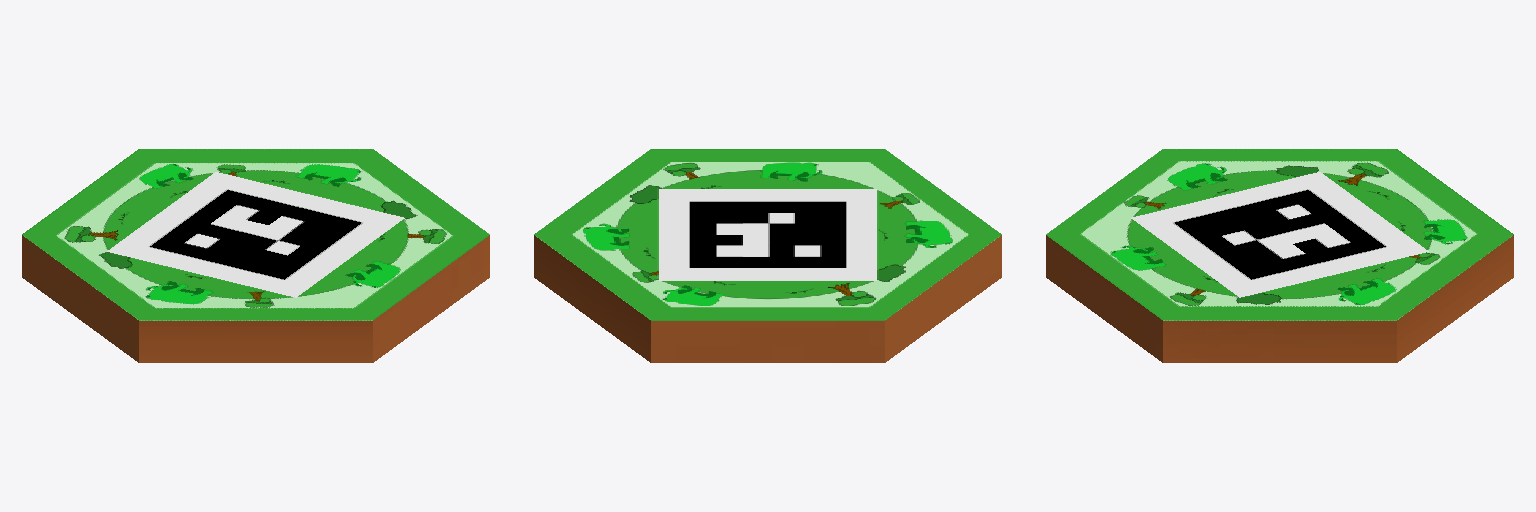
3 views of the same model, side by side, from view 1: azimuth 30°, elevation 25°; view 2: azimuth 150°, elevation 25°; view 3: azimuth 270°, elevation 25° (orthographic).
Parts seen in each view (by area): view 1: Circle; view 2: Circle; view 3: Circle.
Boxes of the visible parts, <box> form: Circle: <box>22,149,489,362</box>; Circle: <box>534,149,1001,362</box>; Circle: <box>1046,149,1513,362</box>.
Bounding box in the file's own units: 0.1299 × 0.015 × 0.15.
Materials: 1 (1 with a texture image).